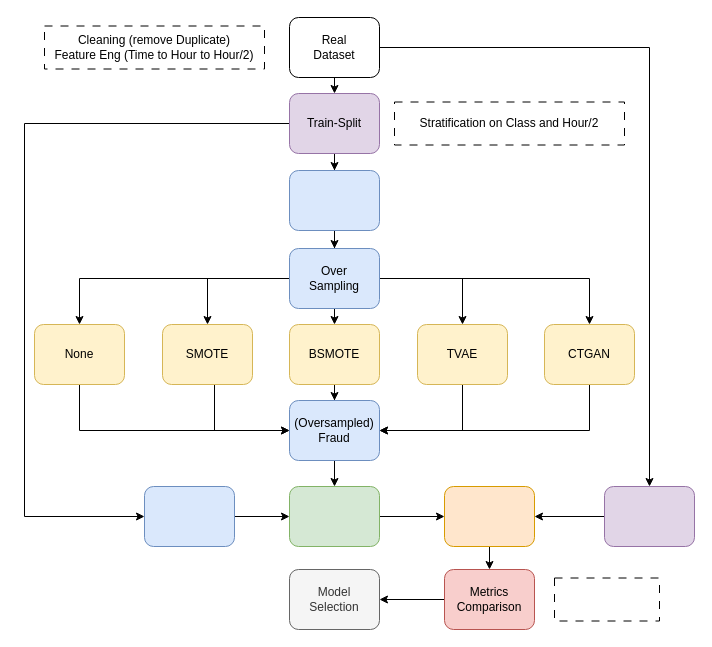
Some shapes in this 712 by 647 pixel diagram are drawn without their labels. Each missing label, with the centre of its shape:
"F2-Score PR-AUC, etc" belongs at [607,599].
"Majority Legit" belongs at [189,516].
"Minority Fraud" belongs at [334,200].
"Test-Split" belongs at [649,516].
"XGBoost Evaluation" belongs at [489,516].
"XGBoost Training" belongs at [334,516].
